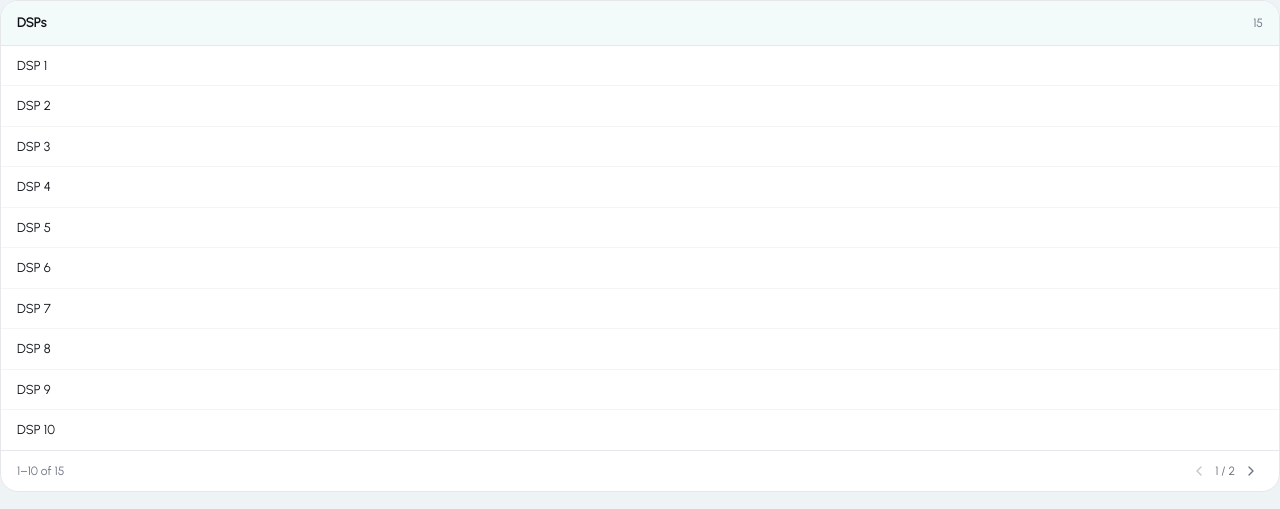
Test: GenericListCard paging › shows 10 rows a page and moves between pages
The width and height of the screenshot is (1280, 509).
Check: the text "DSP 10" is shown, box [17,422,55,437]
Check: the text "DSP 11" is not shown
Click the button named "Next page" at (1251, 470), box [1239,458,1263,482]
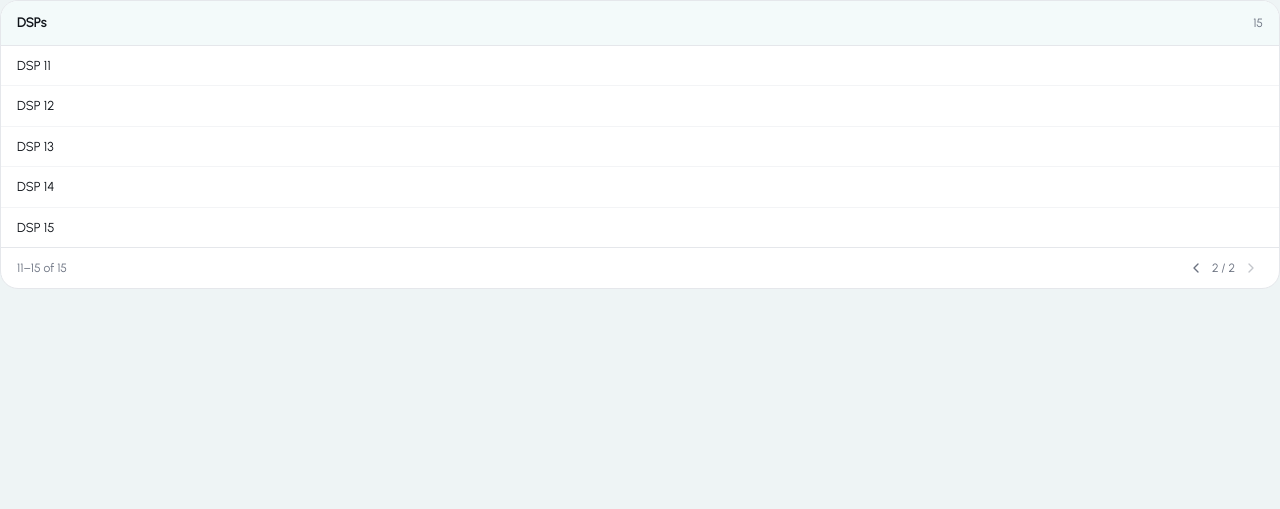
Check: the text "DSP 15" is shown, box [17,220,54,234]
Check: the text "11–15 of 15" is shown, box [17,259,67,277]
